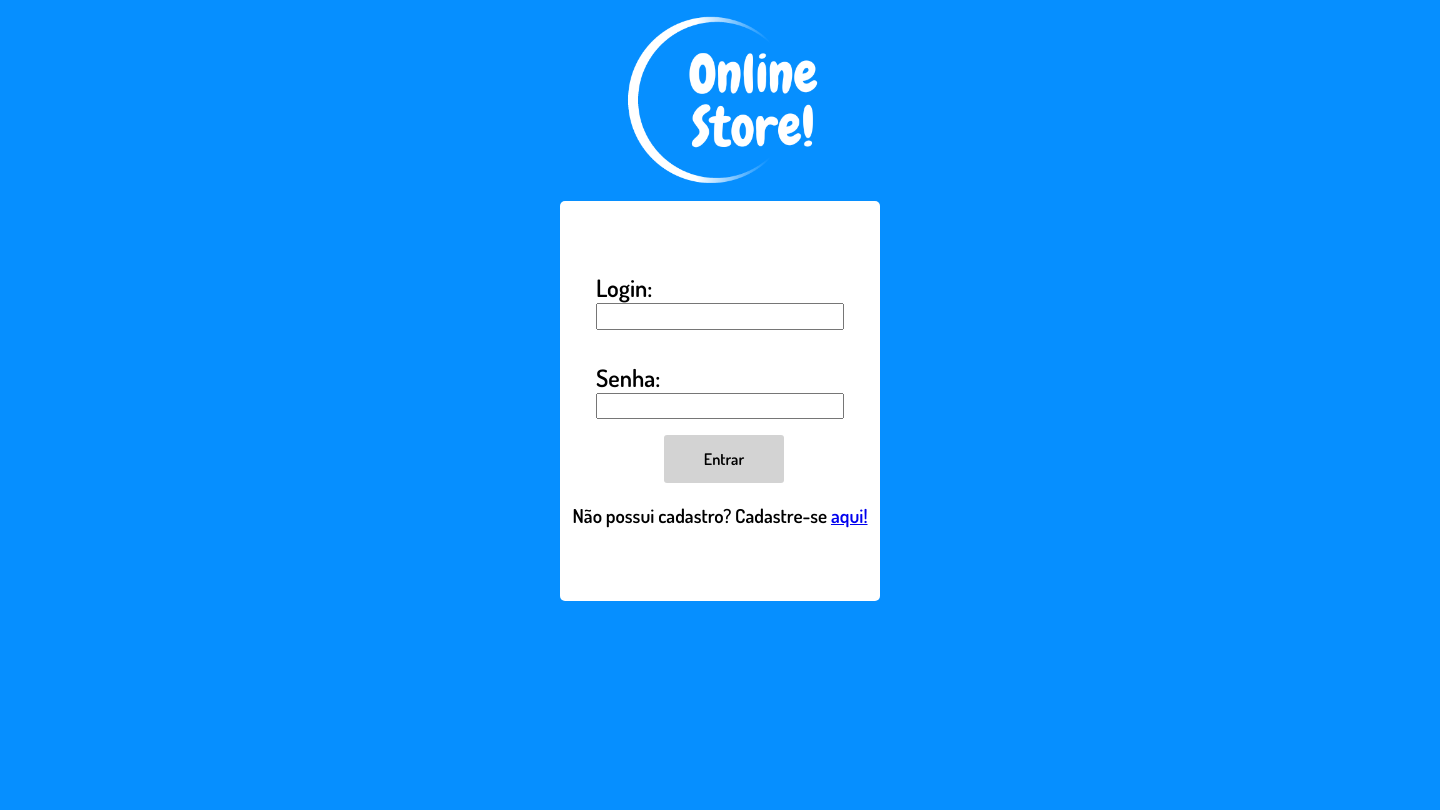
Test case: Testes do Login › Testa se tentar fazer login com username não cadastrado, aparece um alerta
Type "Inválido" into the field named "loginInput".
click(720, 316); type("Inválido")  # box 596,303 -> 844,330
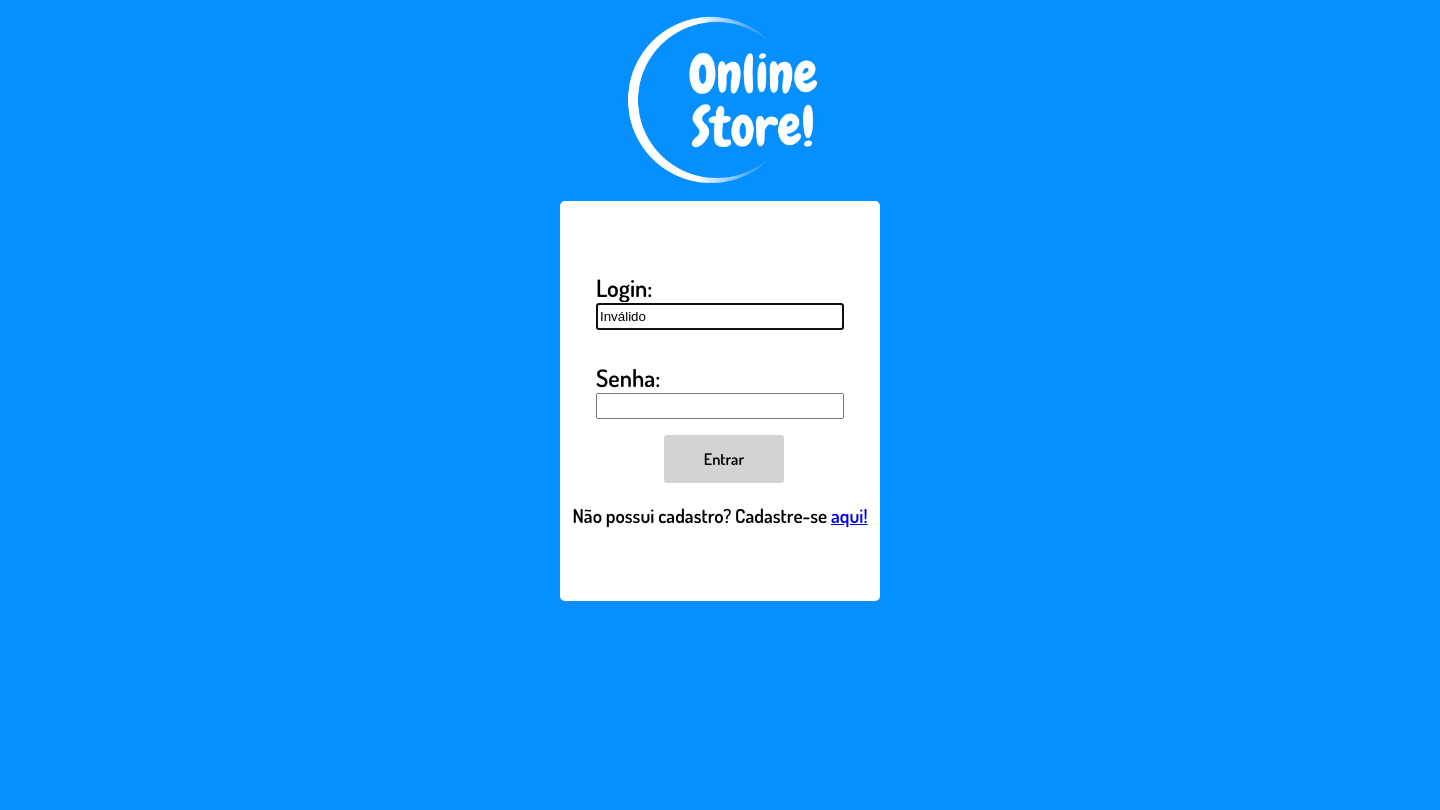
Type "12345678" into the password field named "loginPassInput".
click(720, 406); type("12345678")  # box 596,393 -> 844,420
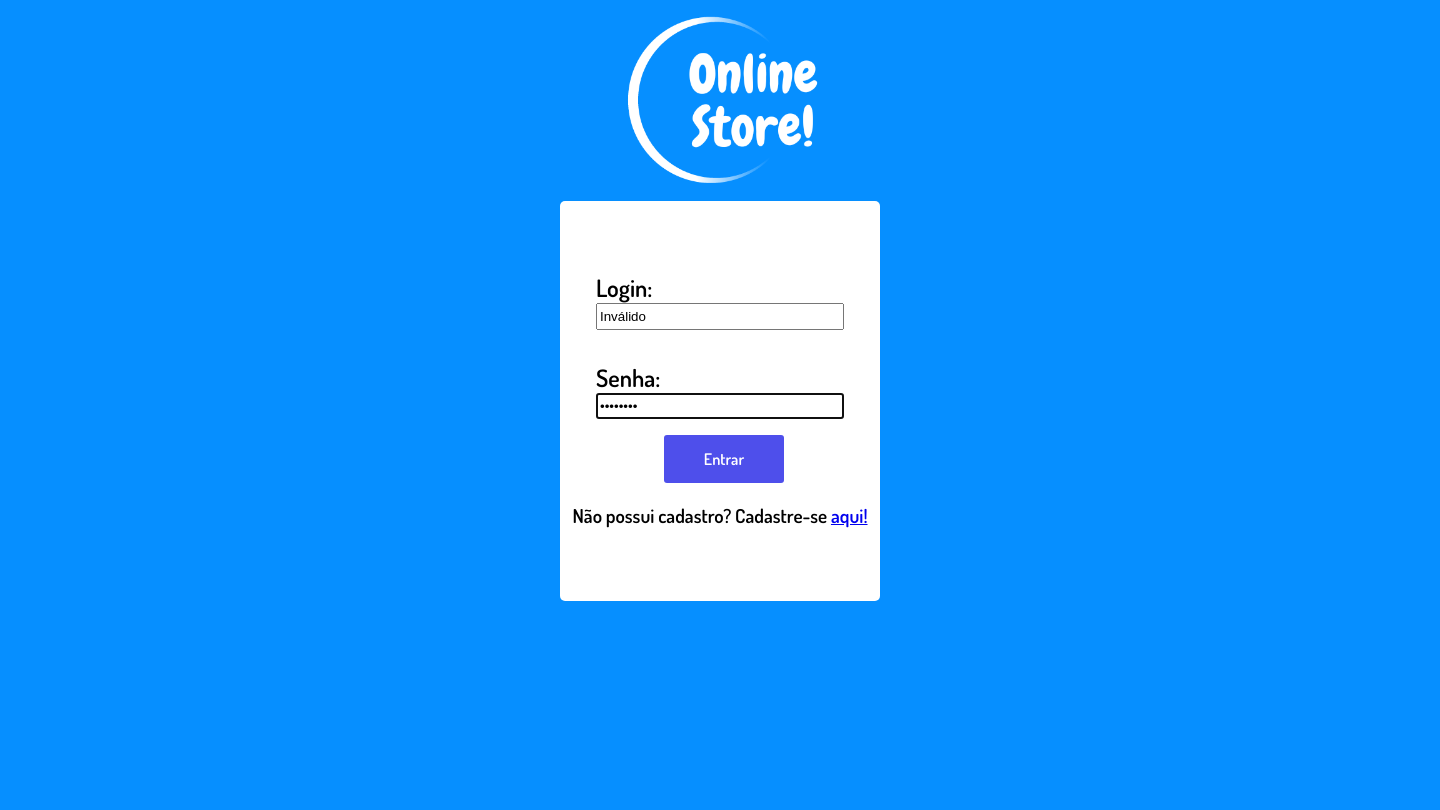
Click the button with aria-label "loginSubmitBtn".
click(724, 460)  # box 664,436 -> 784,484
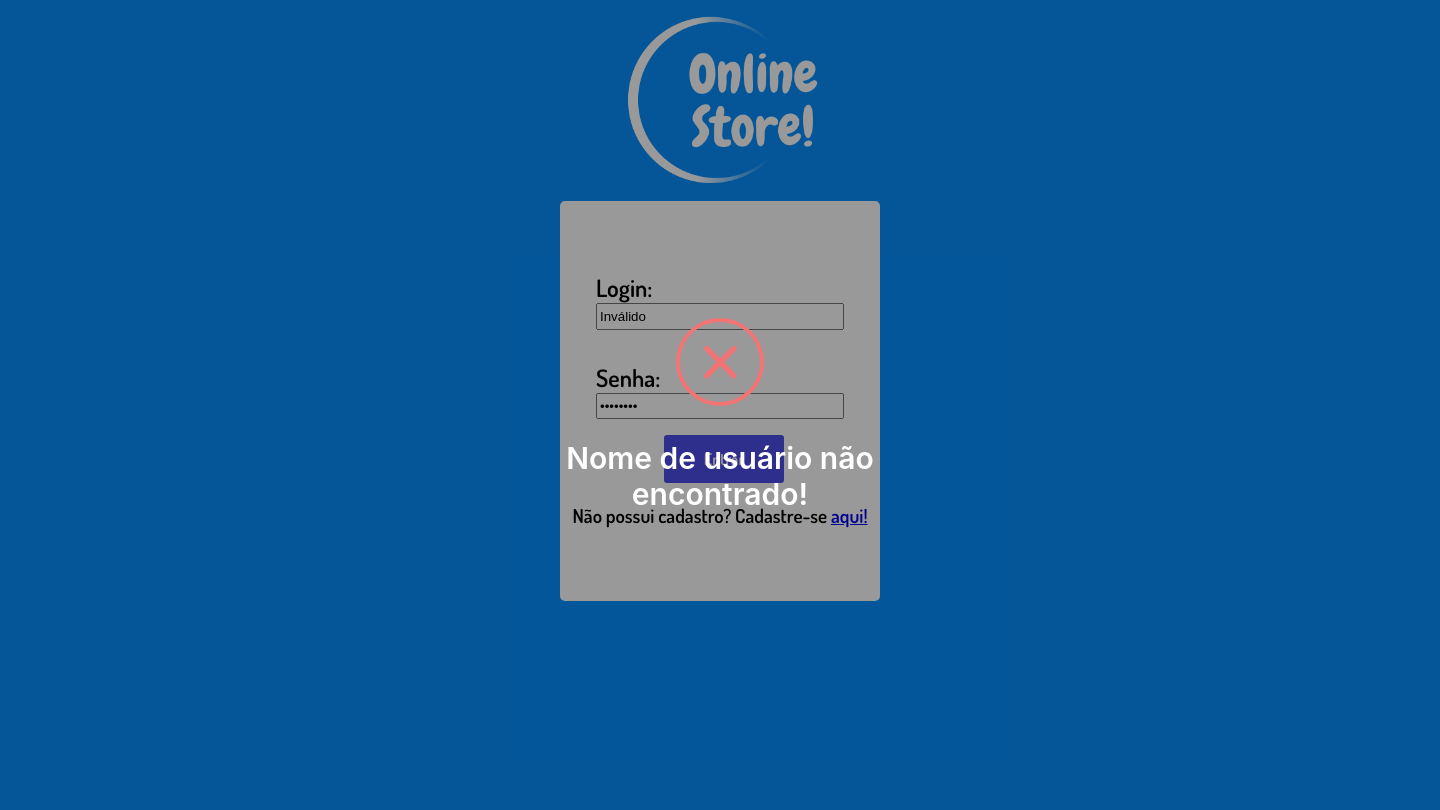
Expected: the heading "Nome de usuário não encontrado!" is shown, 566,440 -> 874,512
